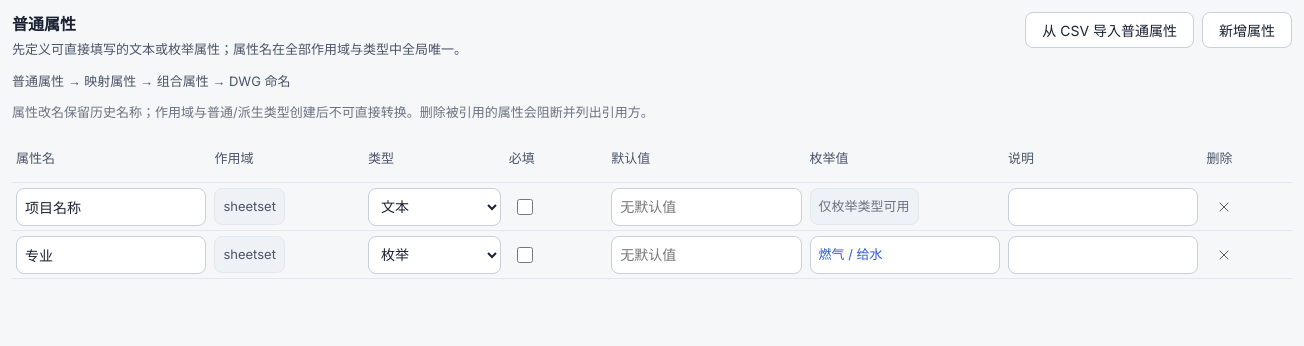
Test: OrdinaryPropertyEditor › blocks deleting a referenced property and reports the referencing side
Click the button with test id "ordinary-remove-prop-major": click(1224, 254) [1206,236,1242,272]
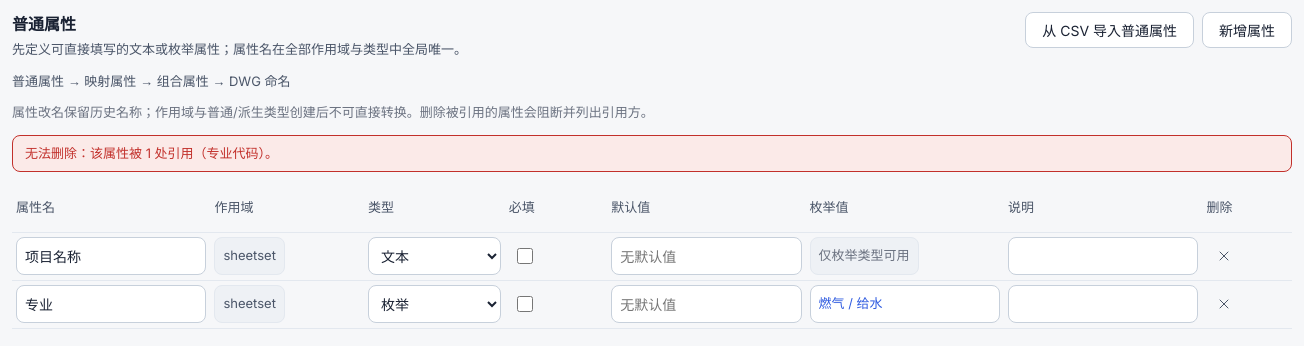
Check: the message with test id "ordinary-delete-blocked" shows "专业代码", box [25,144,278,160]
